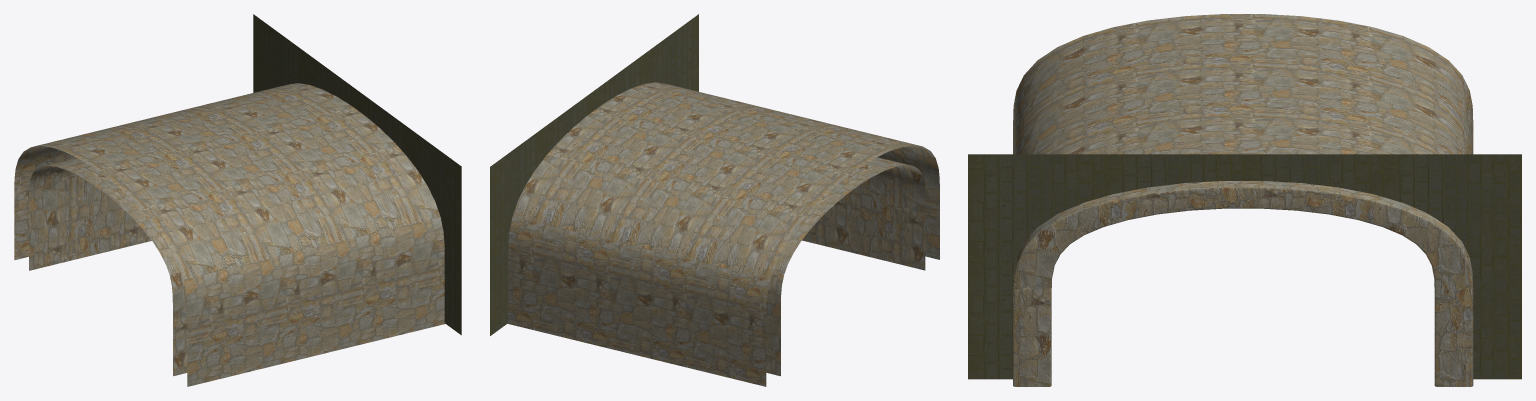
File: tunnel_single.fbx
The picture shows the model from 3 angles, left to right: view 1: azimuth 30°, elevation 25°; view 2: azimuth 150°, elevation 25°; view 3: azimuth 270°, elevation 25°; orthographic projection. The views are drawn at different scales.
Parts seen in each view (by area): view 1: tunnel1, Tunnel_Roof1; view 2: tunnel1, Tunnel_Roof1; view 3: tunnel1, Tunnel_Roof1.
Boxes of the visible parts, x1,y1,x2,y2 form: tunnel1: (14, 83, 445, 386); Tunnel_Roof1: (253, 14, 461, 335); tunnel1: (507, 82, 939, 386); Tunnel_Roof1: (490, 14, 698, 335); tunnel1: (1013, 14, 1473, 386); Tunnel_Roof1: (968, 154, 1521, 379).
Bounding box in the file's own units: 57.48 × 35 × 77.68.
Materials: 2 (2 with a texture image).
